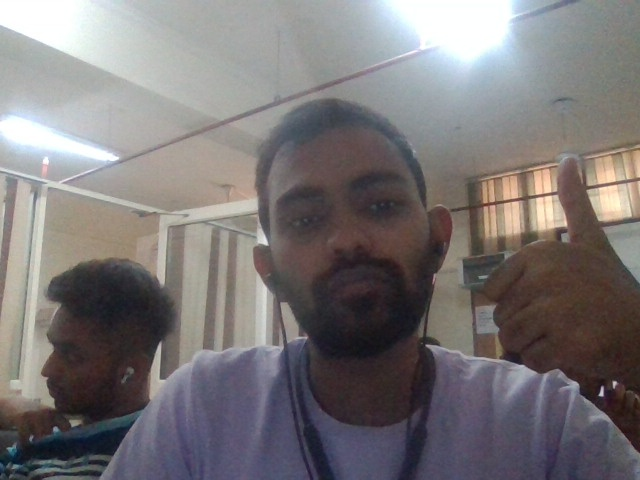Yes: (482, 156, 640, 386)
